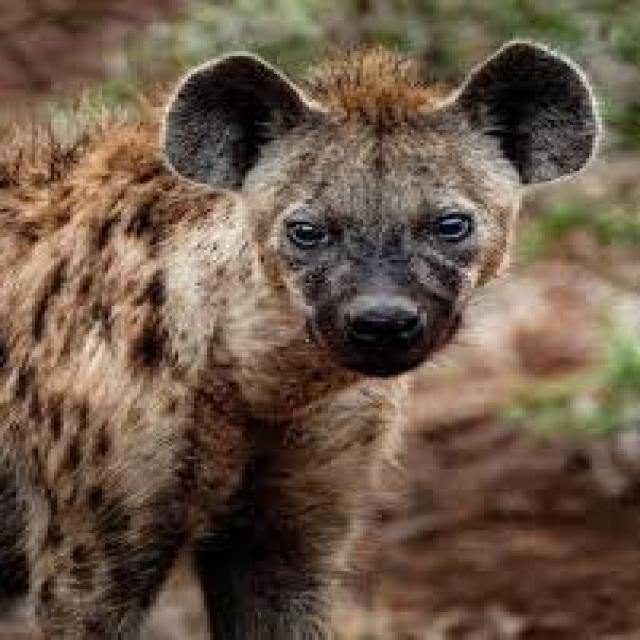Hyena: (0, 33, 606, 640)
